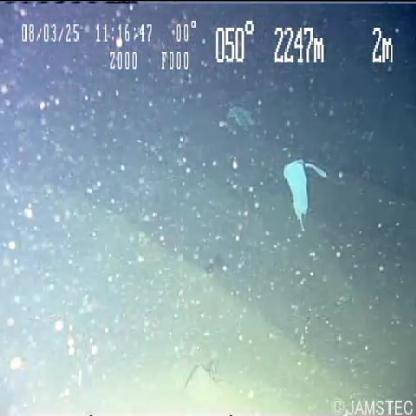Rác: (284, 156, 311, 226)
